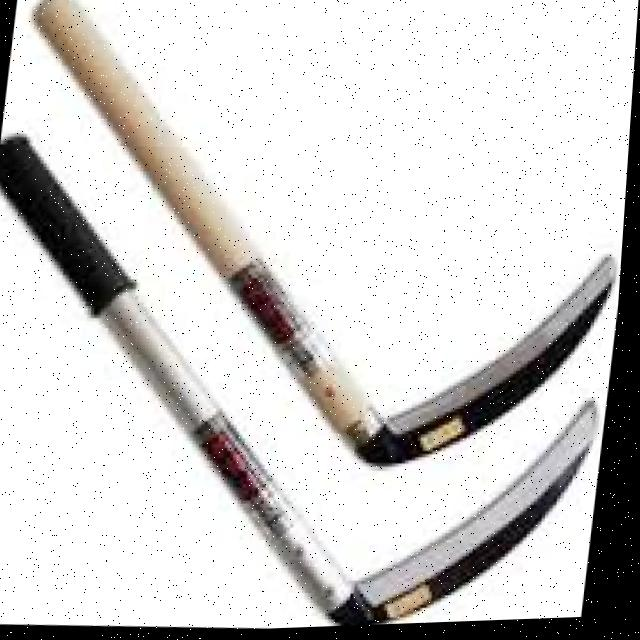sickle: (0, 128, 632, 640), (0, 0, 640, 486)
